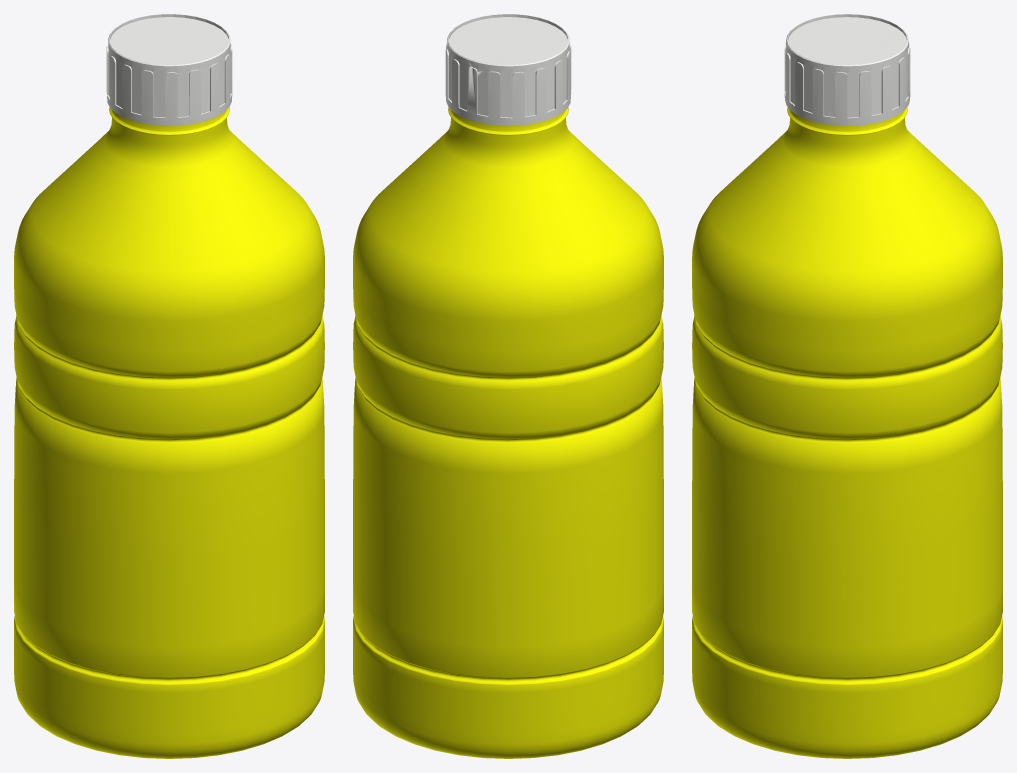
File: bottle2.obj
3 views of the same model, side by side, from view 1: azimuth 30°, elevation 25°; view 2: azimuth 150°, elevation 25°; view 3: azimuth 270°, elevation 25° (orthographic).
Visible parts, largest first — view 1: Bottle_Main_Untitled.001, Bottle_Cap_Untitled.010; view 2: Bottle_Main_Untitled.001, Bottle_Cap_Untitled.010; view 3: Bottle_Main_Untitled.001, Bottle_Cap_Untitled.010.
Boxes of the visible parts, x1=… form: Bottle_Main_Untitled.001: x1=14, y1=107, x2=324, y2=758; Bottle_Cap_Untitled.010: x1=106, y1=14, x2=232, y2=125; Bottle_Main_Untitled.001: x1=353, y1=107, x2=663, y2=758; Bottle_Cap_Untitled.010: x1=445, y1=14, x2=571, y2=125; Bottle_Main_Untitled.001: x1=692, y1=107, x2=1002, y2=758; Bottle_Cap_Untitled.010: x1=784, y1=14, x2=910, y2=125.
Bounding box in the file's own units: 0.2778 × 0.6514 × 0.2778.
Materials: 3 (3 with a texture image).
